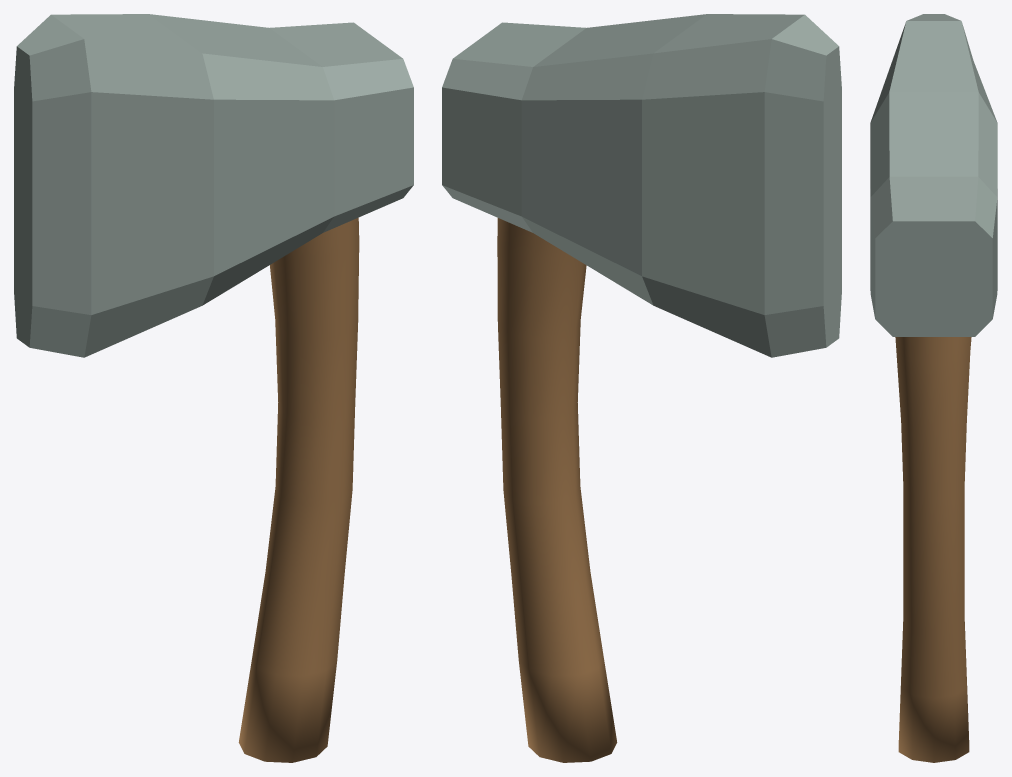
File: axe.glb
3 views of the same model, side by side, from view 1: azimuth 30°, elevation 25°; view 2: azimuth 150°, elevation 25°; view 3: azimuth 270°, elevation 25° (orthographic). The views are drawn at different scales.
Parts seen in each view (by area): view 1: AxeBlade, RecoveredHandle; view 2: AxeBlade, RecoveredHandle; view 3: AxeBlade, RecoveredHandle.
Boxes of the visible parts, x1,y1,x2,y2 form: AxeBlade: (14, 14, 413, 357); RecoveredHandle: (238, 217, 359, 762); AxeBlade: (442, 14, 841, 357); RecoveredHandle: (497, 218, 617, 762); AxeBlade: (870, 14, 997, 336); RecoveredHandle: (895, 337, 971, 762).
Size of the model in its own units: 0.7534 by 1.56 by 0.2825.
